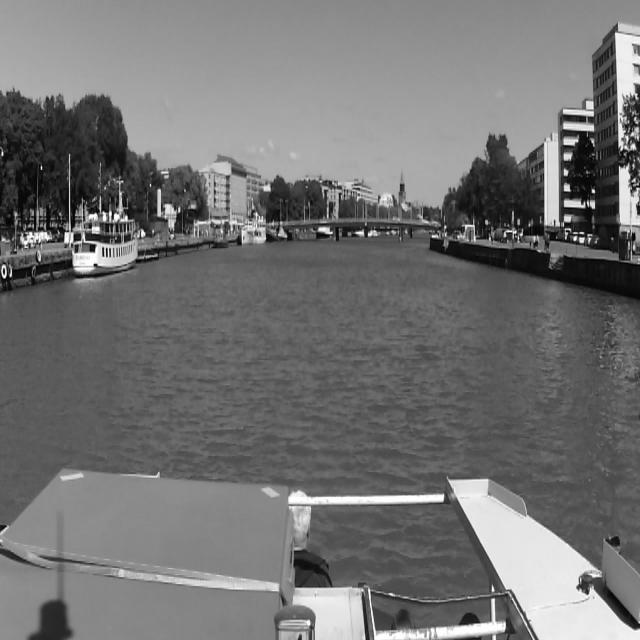ship: (70, 218, 140, 274), (239, 224, 265, 245), (215, 231, 228, 248), (316, 227, 332, 240)
